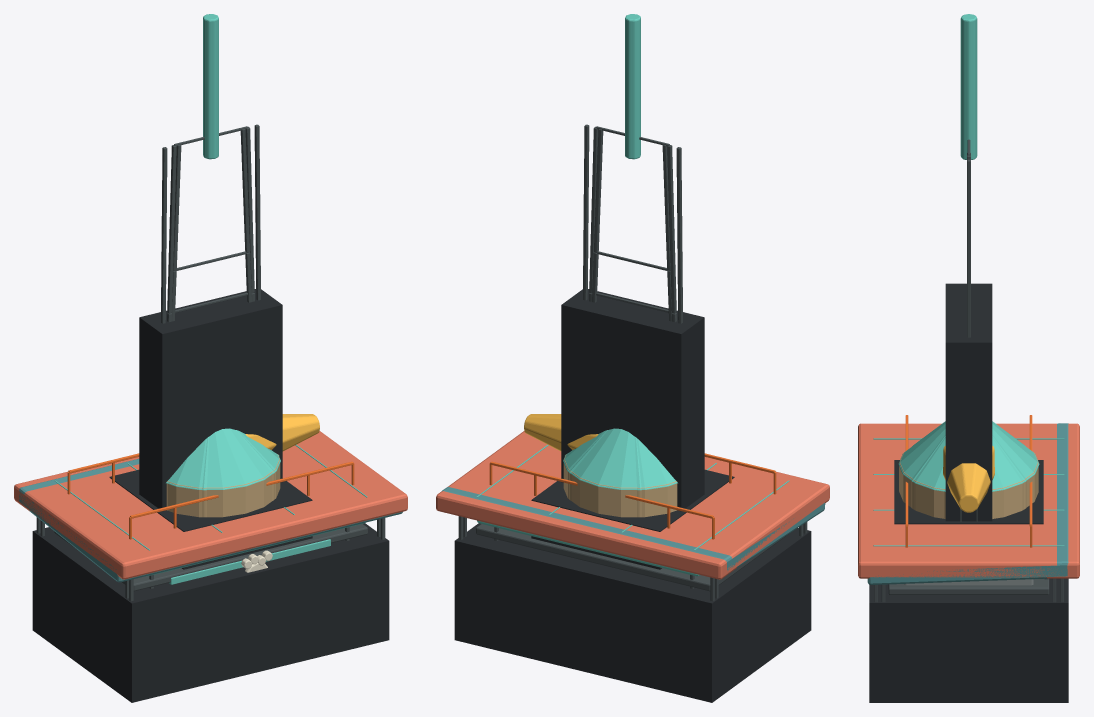
File: kaki-desert-service-kit-v1.glb
3 renders of one model, left to right at view 1: azimuth 30°, elevation 25°; view 2: azimuth 150°, elevation 25°; view 3: azimuth 270°, elevation 25°, orthographic.
Visible parts, largest first — view 1: KR_DESERT_BIVOUAC_CANOPY_COL_PROXY, KR_DESERT_RADIO_MAST_COL_PROXY, Roof, KR_DESERT_SOLAR_ARRAY_COL_PROXY, TankCap, TankBody, KR_DESERT_WATER_TANK_COL_PROXY, Antenna, KR_DESERT_RADIO_MAST_LOD0_KR_MAT_DARK_STRUCTURE, Roof.006, KR_DESERT_RADIO_MAST_LOD1_KR_MAT_DARK_STRUCTURE, KR_DESERT_RADIO_MAST_LOD2_KR_MAT_DARK_STRUCTURE (+4 smaller); view 2: KR_DESERT_BIVOUAC_CANOPY_COL_PROXY, KR_DESERT_RADIO_MAST_COL_PROXY, Roof, TankCap, TankBody, Roof.012, KR_DESERT_WATER_TANK_COL_PROXY, Roof.006, Antenna, KR_DESERT_RADIO_MAST_LOD1_KR_MAT_DARK_STRUCTURE, KR_DESERT_RADIO_MAST_LOD0_KR_MAT_DARK_STRUCTURE, KR_DESERT_RADIO_MAST_LOD2_KR_MAT_DARK_STRUCTURE (+3 smaller); view 3: KR_DESERT_BIVOUAC_CANOPY_COL_PROXY, Roof, KR_DESERT_RADIO_MAST_COL_PROXY, TankCap, Roof.006, Antenna, TankBody, KR_DESERT_WATER_TANK_COL_PROXY, Sock, Roof.012, KR_DESERT_SOLAR_ARRAY_COL_PROXY, KR_DESERT_OBSERVATION_PLATFORM_LOD0_KR_MAT_SAFETY_ORANGE (+4 smaller).
Part boxes in pixels (x1=…): KR_DESERT_BIVOUAC_CANOPY_COL_PROXY: x1=32, y1=523, x2=389, y2=702; KR_DESERT_RADIO_MAST_COL_PROXY: x1=139, y1=289, x2=282, y2=511; Roof: x1=14, y1=431, x2=407, y2=579; KR_DESERT_SOLAR_ARRAY_COL_PROXY: x1=37, y1=537, x2=127, y2=699; TankCap: x1=167, y1=428, x2=280, y2=489; TankBody: x1=168, y1=455, x2=280, y2=517; KR_DESERT_WATER_TANK_COL_PROXY: x1=109, y1=469, x2=312, y2=569; Antenna: x1=203, y1=14, x2=218, y2=159; KR_DESERT_RADIO_MAST_LOD0_KR_MAT_DARK_STRUCTURE: x1=172, y1=127, x2=251, y2=321; Roof.006: x1=19, y1=458, x2=402, y2=582; KR_DESERT_RADIO_MAST_LOD1_KR_MAT_DARK_STRUCTURE: x1=167, y1=126, x2=254, y2=322; KR_DESERT_RADIO_MAST_LOD2_KR_MAT_DARK_STRUCTURE: x1=161, y1=124, x2=260, y2=323; KR_DESERT_BIVOUAC_CANOPY_COL_PROXY: x1=454, y1=523, x2=811, y2=702; KR_DESERT_RADIO_MAST_COL_PROXY: x1=561, y1=289, x2=704, y2=511; Roof: x1=436, y1=431, x2=829, y2=579; TankCap: x1=563, y1=428, x2=676, y2=489; TankBody: x1=563, y1=455, x2=675, y2=517; Roof.012: x1=476, y1=524, x2=789, y2=591; KR_DESERT_WATER_TANK_COL_PROXY: x1=531, y1=469, x2=734, y2=569; Roof.006: x1=442, y1=487, x2=825, y2=570; Antenna: x1=625, y1=14, x2=640, y2=159; KR_DESERT_RADIO_MAST_LOD1_KR_MAT_DARK_STRUCTURE: x1=589, y1=126, x2=676, y2=322; KR_DESERT_RADIO_MAST_LOD0_KR_MAT_DARK_STRUCTURE: x1=592, y1=127, x2=671, y2=321; KR_DESERT_RADIO_MAST_LOD2_KR_MAT_DARK_STRUCTURE: x1=583, y1=124, x2=682, y2=323; KR_DESERT_BIVOUAC_CANOPY_COL_PROXY: x1=869, y1=578, x2=1068, y2=702; Roof: x1=858, y1=423, x2=1079, y2=578; KR_DESERT_RADIO_MAST_COL_PROXY: x1=945, y1=283, x2=992, y2=521; TankCap: x1=898, y1=421, x2=1039, y2=491; Roof.006: x1=867, y1=423, x2=1068, y2=584; Antenna: x1=960, y1=14, x2=977, y2=159; TankBody: x1=899, y1=449, x2=1038, y2=518; KR_DESERT_WATER_TANK_COL_PROXY: x1=894, y1=460, x2=1043, y2=524; Sock: x1=943, y1=446, x2=994, y2=512; Roof.012: x1=888, y1=578, x2=1049, y2=594; KR_DESERT_SOLAR_ARRAY_COL_PROXY: x1=878, y1=632, x2=1060, y2=702; KR_DESERT_OBSERVATION_PLATFORM_LOD0_KR_MAT_SAFETY_ORANGE: x1=905, y1=415, x2=1032, y2=547.
Size of the model in its own units: 9 by 18.6 by 6.
